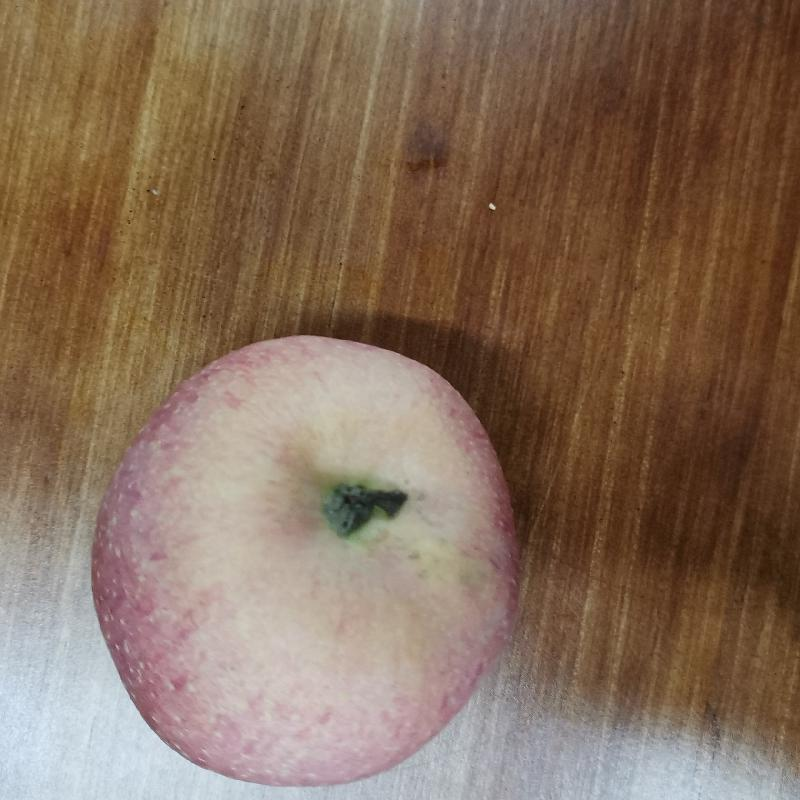apples: (86, 327, 533, 800)
